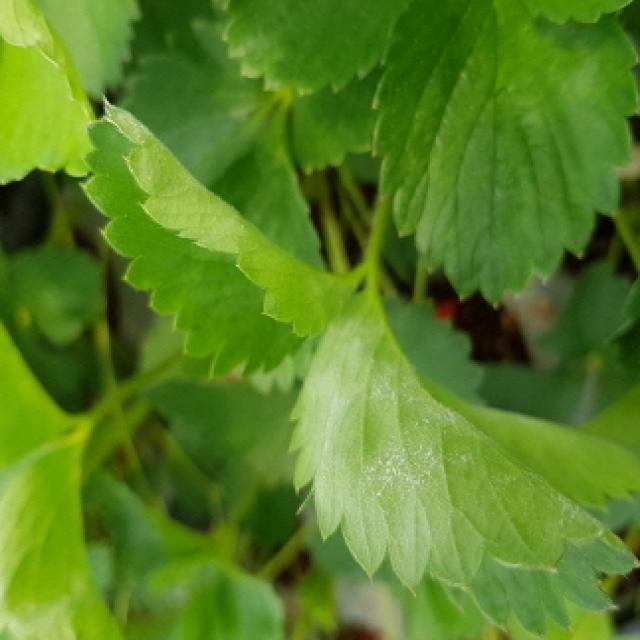Powdery Mildew Leaf: (284, 272, 640, 640), (79, 91, 367, 381)
